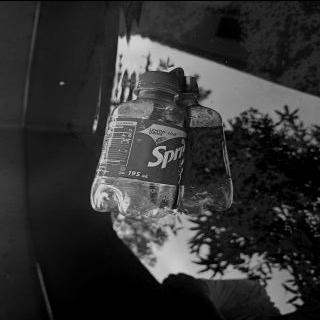bottle: (85, 68, 190, 219)
